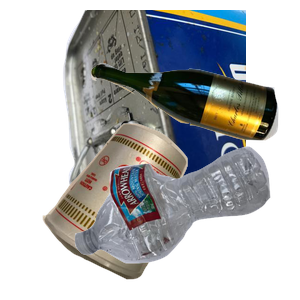glass: (88, 60, 300, 193)
metal: (60, 10, 300, 190)
plastic: (72, 144, 300, 300)
trash: (40, 121, 221, 300)
